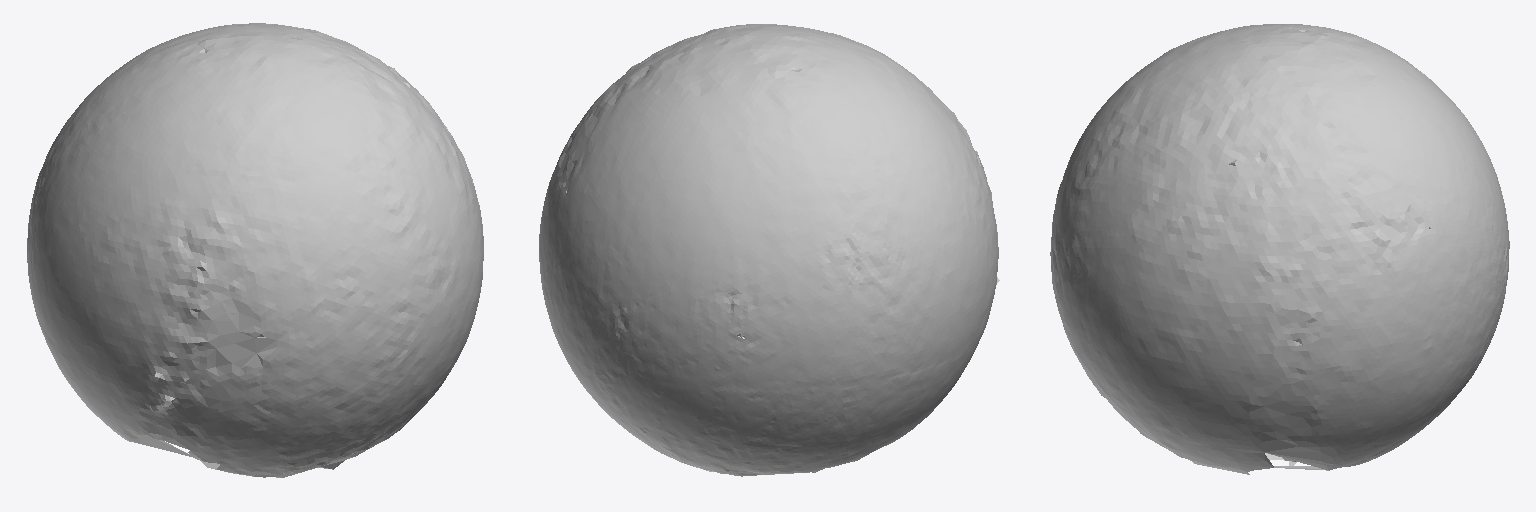
File: Gridtest_2_0_2.000001.obj
3 views of the same model, side by side, from view 1: azimuth 30°, elevation 25°; view 2: azimuth 150°, elevation 25°; view 3: azimuth 270°, elevation 25° (orthographic).
Size of the model in its own units: 299 by 304 by 300.